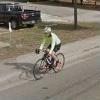bicycles: (33, 48, 65, 80)
